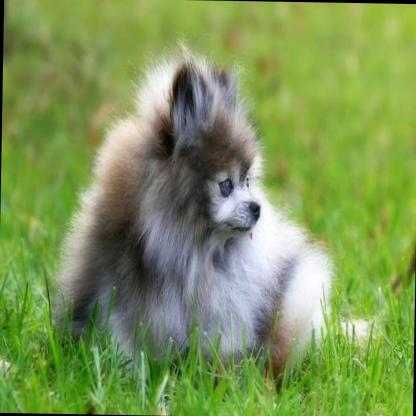Pomeranian: (44, 31, 389, 375)
